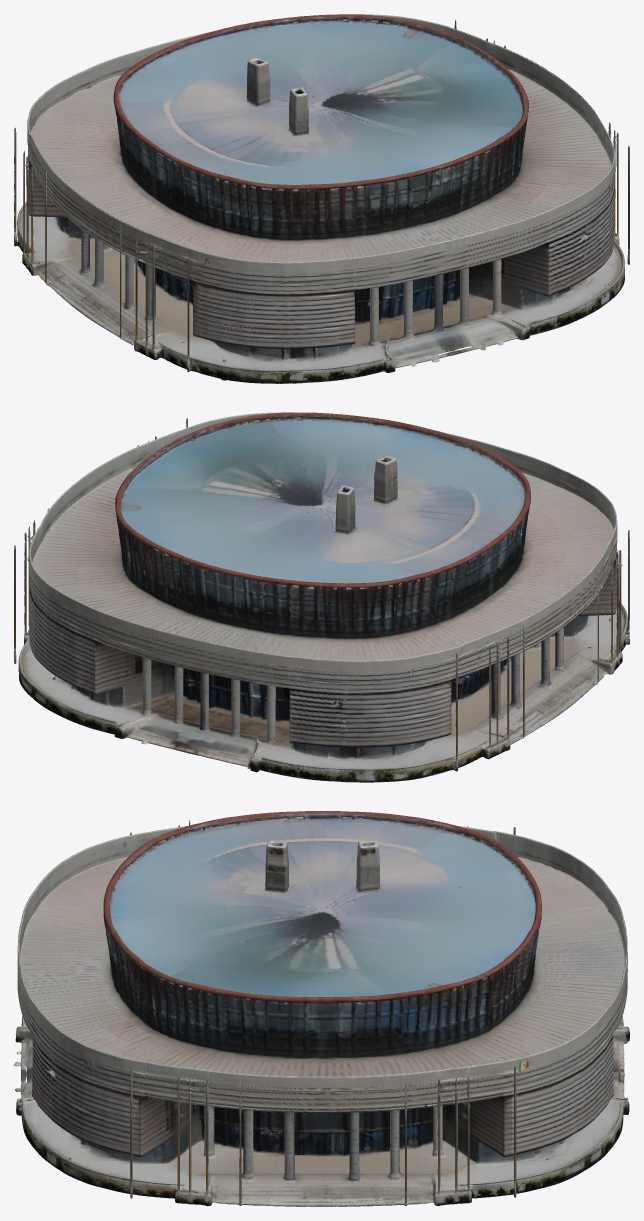
File: modern-round-building.glb
The picture shows the model from 3 angles, top to bottom: view 1: azimuth 30°, elevation 25°; view 2: azimuth 150°, elevation 25°; view 3: azimuth 270°, elevation 25°; orthographic projection. The views are drawn at different scales.
Visible parts, largest first — view 1: tripo_node_40ae924d-20fa-464f-89ff-8e27e7b4ce9e; view 2: tripo_node_40ae924d-20fa-464f-89ff-8e27e7b4ce9e; view 3: tripo_node_40ae924d-20fa-464f-89ff-8e27e7b4ce9e.
Boxes of the visible parts, bbox=[...] form: tripo_node_40ae924d-20fa-464f-89ff-8e27e7b4ce9e: bbox=[14, 14, 629, 383]; tripo_node_40ae924d-20fa-464f-89ff-8e27e7b4ce9e: bbox=[14, 412, 629, 782]; tripo_node_40ae924d-20fa-464f-89ff-8e27e7b4ce9e: bbox=[14, 811, 629, 1206].
Bounding box in the file's own units: 1 × 0.3786 × 0.9964.
Materials: 1 (1 with a texture image).
